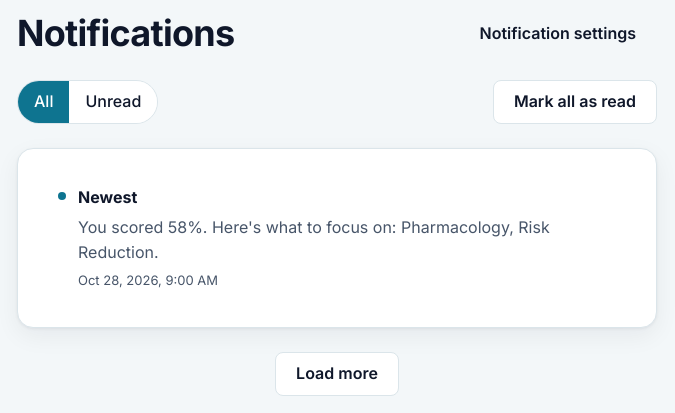
Test: NotificationsHistory › shows only unread notifications when asked
The width and height of the screenshot is (675, 413).
Expected: the text "Newest" is shown, [78,187,140,207]
Step 1. Click the button "Unread" → (113, 102), box [69,81,157,123]
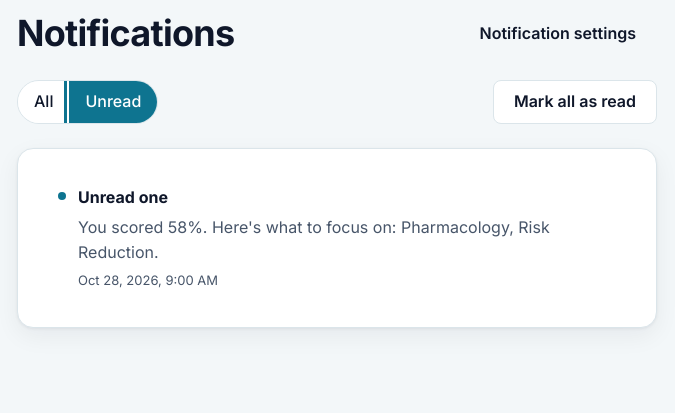
Expected: the text "Unread one" is shown, [78,187,168,207]
